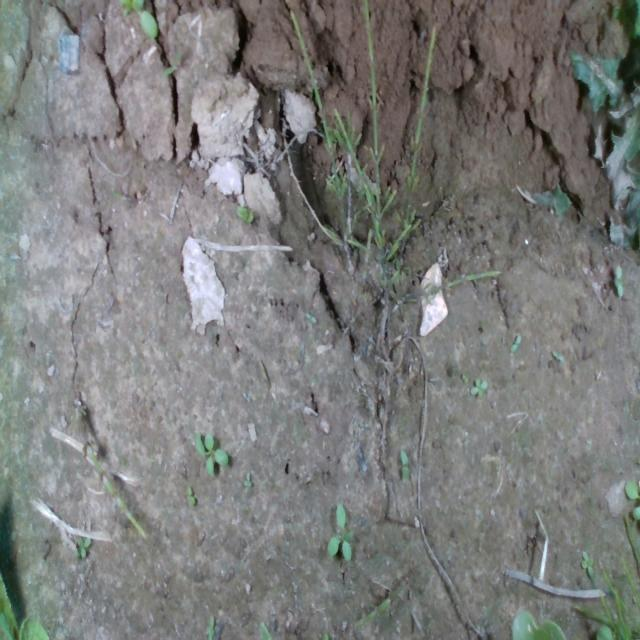weed: (325, 502, 354, 561), (194, 429, 228, 476), (580, 548, 594, 580), (469, 377, 488, 399), (399, 446, 409, 481), (615, 262, 624, 299), (76, 535, 90, 558), (185, 482, 196, 507), (510, 332, 521, 351), (461, 371, 468, 383)
